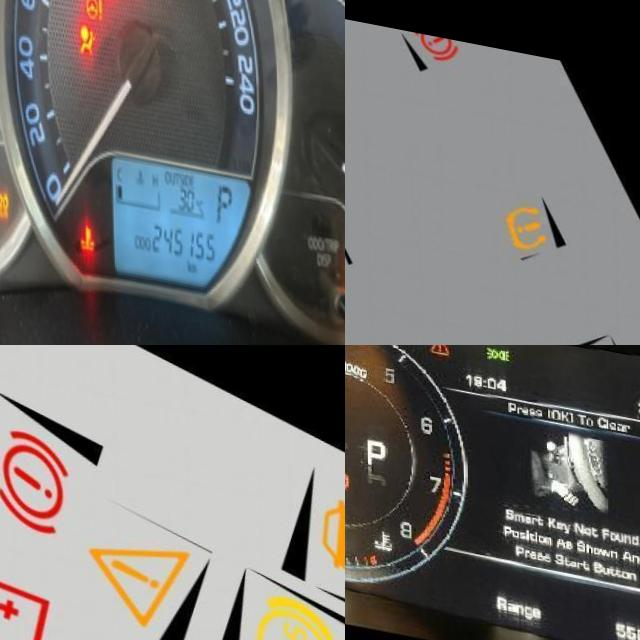Engine cooling system: (369, 517, 392, 544)
High Engine Coolant Temperature: (76, 203, 95, 246)
